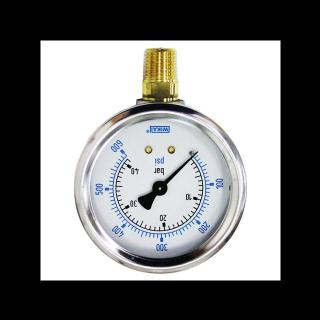gauge: (49, 99, 255, 279), (111, 137, 139, 171), (185, 145, 203, 163), (152, 180, 168, 196), (192, 148, 200, 156)
